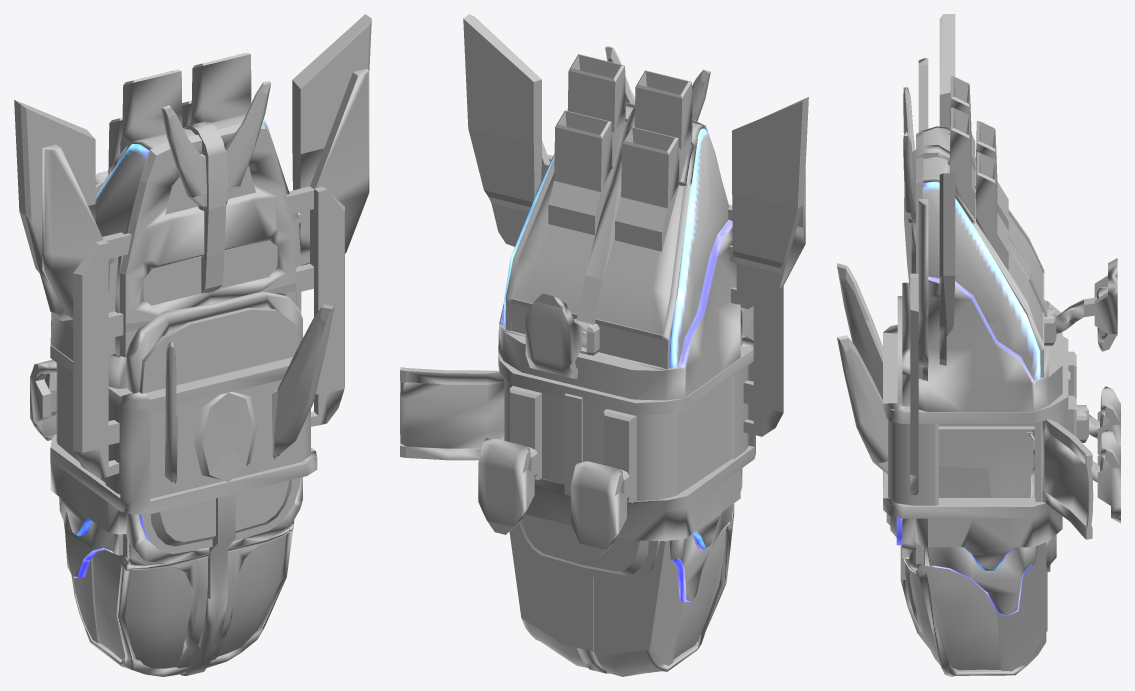
The model's file is HUBNew (2).fbx.
3 renders of one model, left to right at view 1: azimuth 30°, elevation 25°; view 2: azimuth 150°, elevation 25°; view 3: azimuth 270°, elevation 25°, orthographic. The views are drawn at different scales.
Parts seen in each view (by area): view 1: Object_4, Object_5, Object_6, Object_6.001; view 2: Object_4, Object_5, Object_6, Object_6.001; view 3: Object_4, Object_5, Object_6, Object_6.001.
Boxes of the visible parts, x1=… form: Object_4: x1=26, y1=54, x2=369, y2=676; Object_5: x1=14, y1=14, x2=371, y2=675; Object_6: x1=93, y1=534, x2=286, y2=668; Object_6.001: x1=93, y1=535, x2=285, y2=667; Object_4: x1=400, y1=49, x2=805, y2=676; Object_5: x1=400, y1=14, x2=808, y2=673; Object_6: x1=673, y1=527, x2=725, y2=659; Object_6.001: x1=674, y1=529, x2=725, y2=658; Object_4: x1=837, y1=58, x2=1120, y2=676; Object_5: x1=837, y1=14, x2=1120, y2=670; Object_6: x1=909, y1=466, x2=1000, y2=670; Object_6.001: x1=910, y1=467, x2=1000, y2=669.
Bounding box in the file's own units: 17.55 × 29.43 × 13.23.
